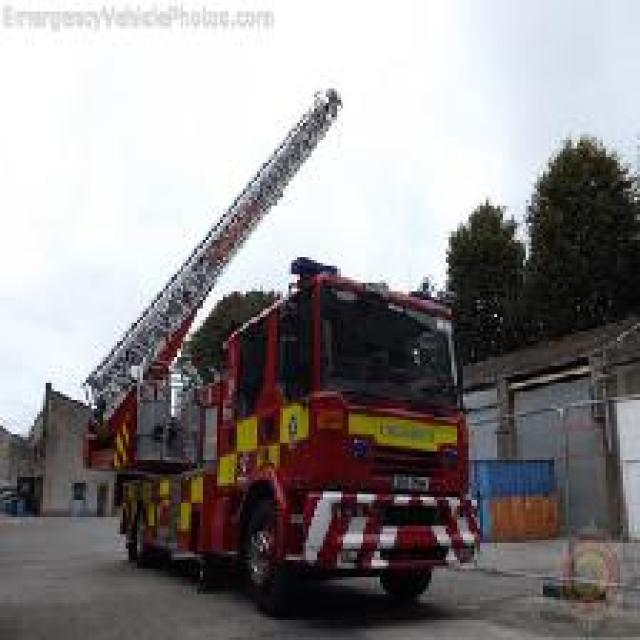emergency: (106, 258, 486, 614)
